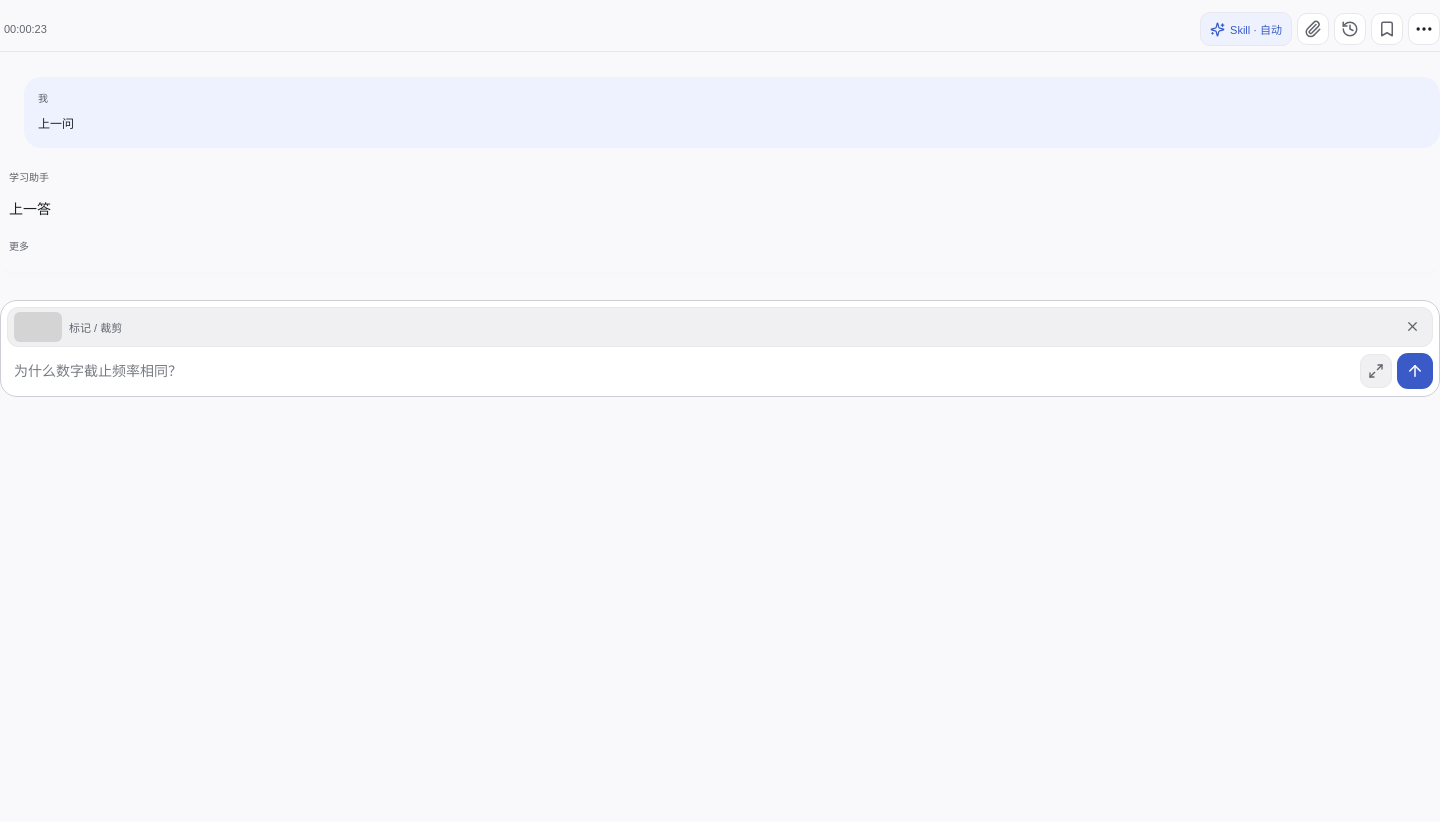
Test case: focused composer › sends the displayed suggestion directly without an adoption control
expect the text box named "向学习助手提问" is enabled: met, box [7,352,1355,390]
expect the button named "扩大输入框" is empty: met, box [1360,354,1392,388]
Click the button named "发送问题" at (1415, 371), box [1397,353,1433,389]
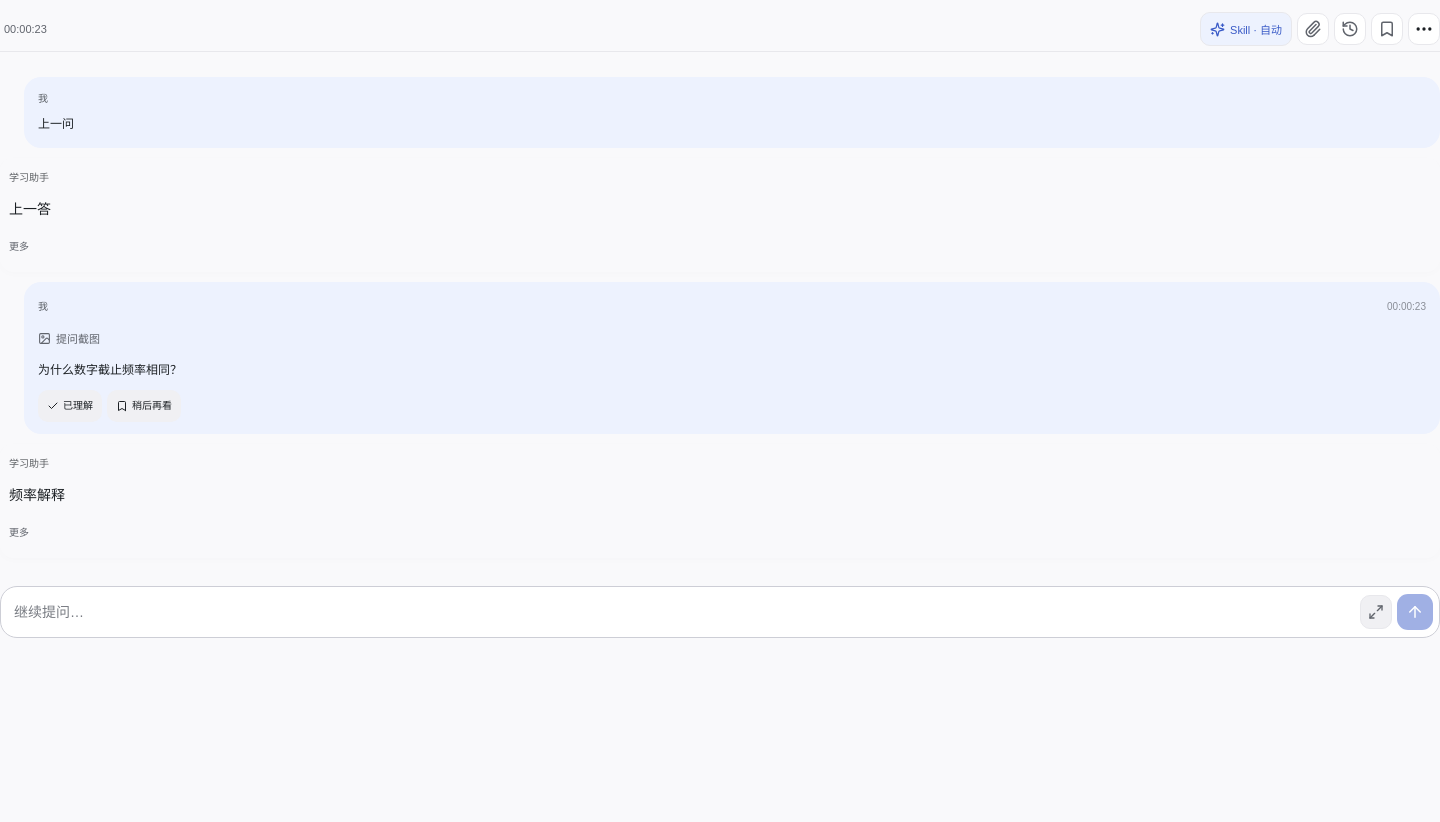
expect the text "频率解释" is shown: met, box [9,487,65,503]
expect the text "为什么数字截止频率相同？" is shown: met, box [38,363,182,377]
